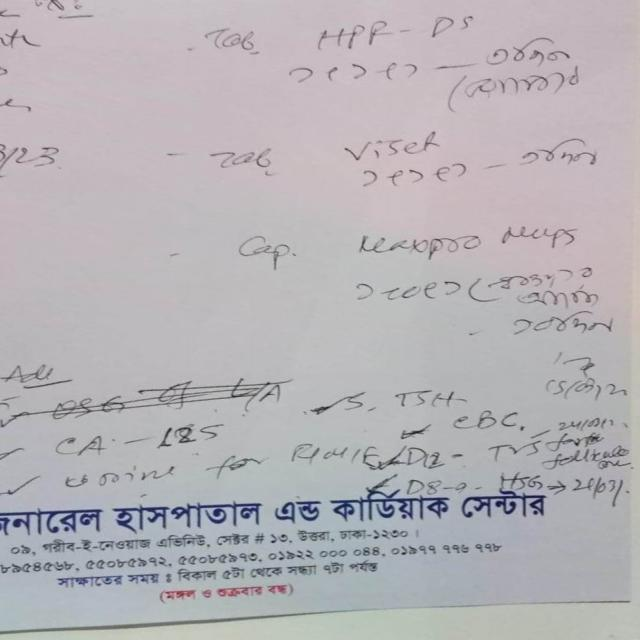HPR-DS: (294, 11, 504, 53)
Maxpro Mups: (341, 206, 592, 257)
Viset: (322, 126, 455, 166)
